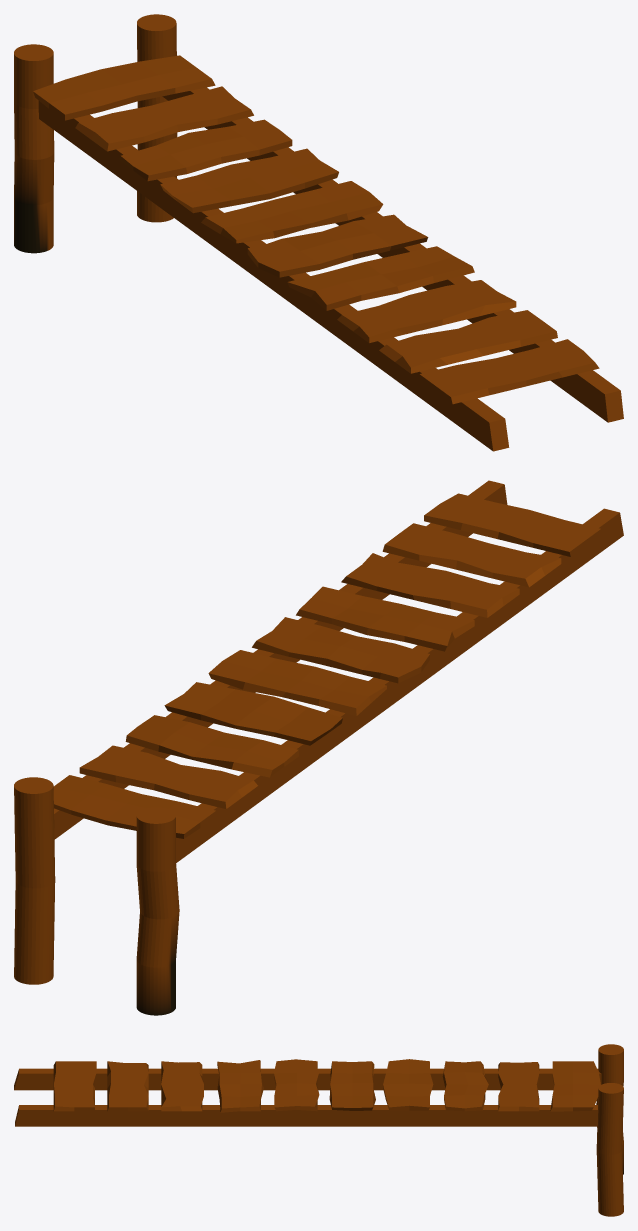
File: Pier.fbx
3 views of the same model, one above another, from view 1: azimuth 30°, elevation 25°; view 2: azimuth 150°, elevation 25°; view 3: azimuth 270°, elevation 25° (orthographic). The views are drawn at different scales.
Visible parts, largest first — view 1: Cube, Cylinder.001, Cube.011, Cube.005, Cube.008, Cube.007, Cube.006, Cube.002, Cube.009, Cube.010, Cube.004, Cube.003 (+2 smaller); view 2: Cube, Cylinder.001, Cylinder, Cube.007, Cube.006, Cube.005, Cube.008, Cube.002, Cube.010, Cube.004, Cube.003, Cube.009 (+2 smaller); view 3: Cube.001, Cube, Cylinder, Cube.005, Cube.011, Cube.007, Cube.008, Cube.006, Cube.002, Cube.009, Cube.010, Cube.004 (+2 smaller).
Part boxes in pixels (x1,y1,x2,y2): Cube: (38, 101, 509, 451); Cylinder.001: (14, 44, 54, 253); Cube.011: (33, 55, 215, 120); Cube.005: (160, 148, 338, 213); Cube.008: (287, 246, 474, 310); Cube.007: (247, 214, 428, 277); Cube.006: (201, 181, 383, 243); Cube.002: (419, 339, 599, 404); Cube.009: (337, 280, 516, 343); Cube.010: (379, 310, 557, 373); Cube.004: (118, 119, 292, 181); Cube.003: (75, 86, 253, 151); Cube: (176, 508, 623, 862); Cylinder.001: (136, 807, 179, 1015); Cylinder: (14, 777, 55, 984); Cube.007: (252, 617, 429, 683); Cube.006: (208, 650, 386, 715); Cube.005: (164, 682, 342, 745); Cube.008: (296, 586, 474, 651); Cube.002: (424, 493, 602, 556); Cube.010: (382, 523, 561, 587); Cube.004: (125, 715, 298, 777); Cube.003: (79, 745, 257, 808); Cube.009: (341, 553, 519, 617); Cube.001: (15, 1105, 598, 1126); Cube: (14, 1068, 601, 1090); Cylinder: (596, 1083, 623, 1216); Cube.005: (383, 1059, 433, 1110); Cube.011: (550, 1061, 600, 1111); Cube.007: (274, 1059, 319, 1111); Cube.008: (217, 1060, 263, 1112); Cube.006: (329, 1061, 375, 1110); Cube.002: (53, 1061, 96, 1111); Cube.009: (161, 1061, 203, 1111); Cube.010: (107, 1061, 148, 1111); Cube.004: (442, 1061, 488, 1111).
Size of the model in its own units: 578 by 661 by 2958.
